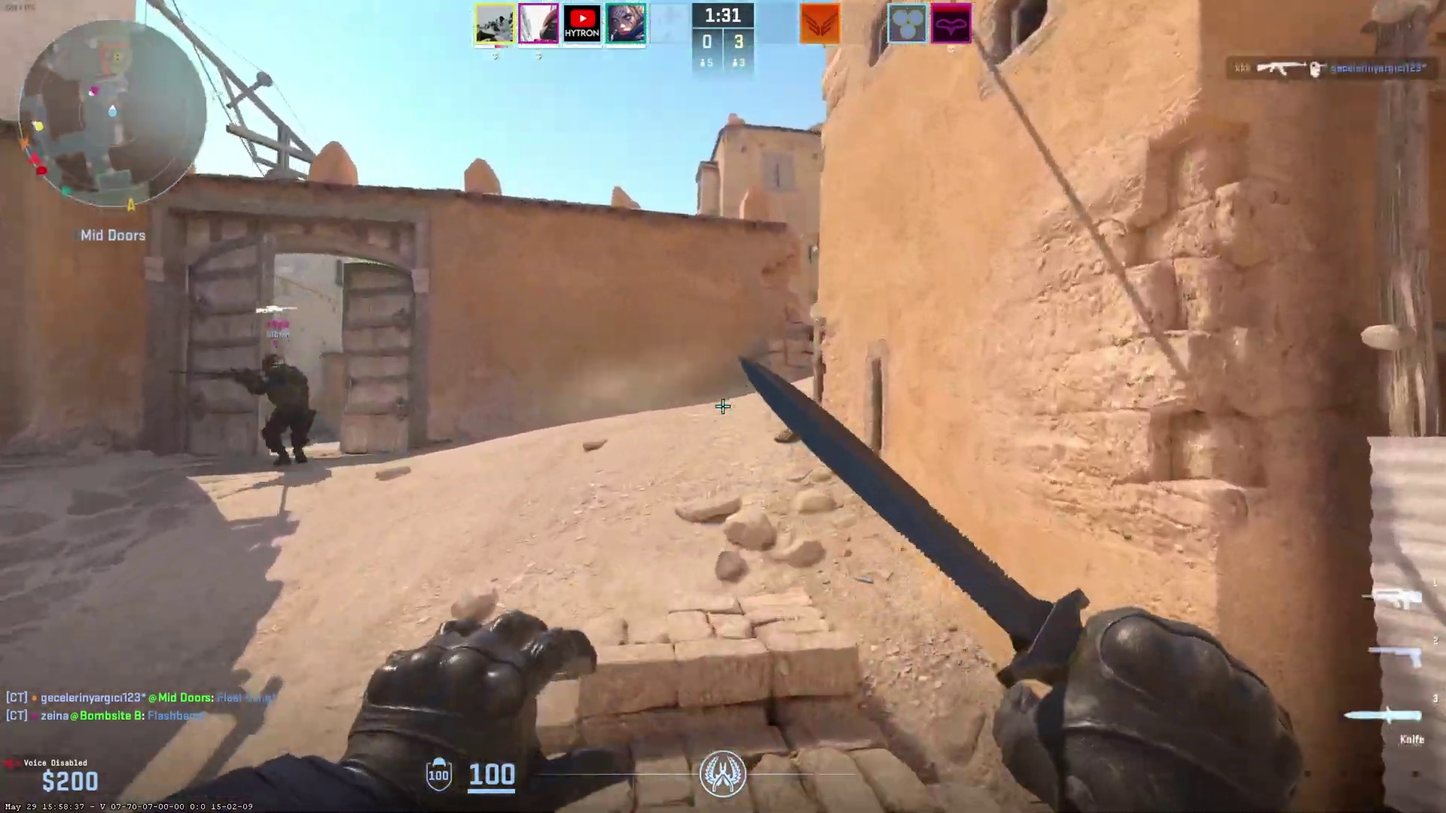CT: (257, 353, 308, 465)
